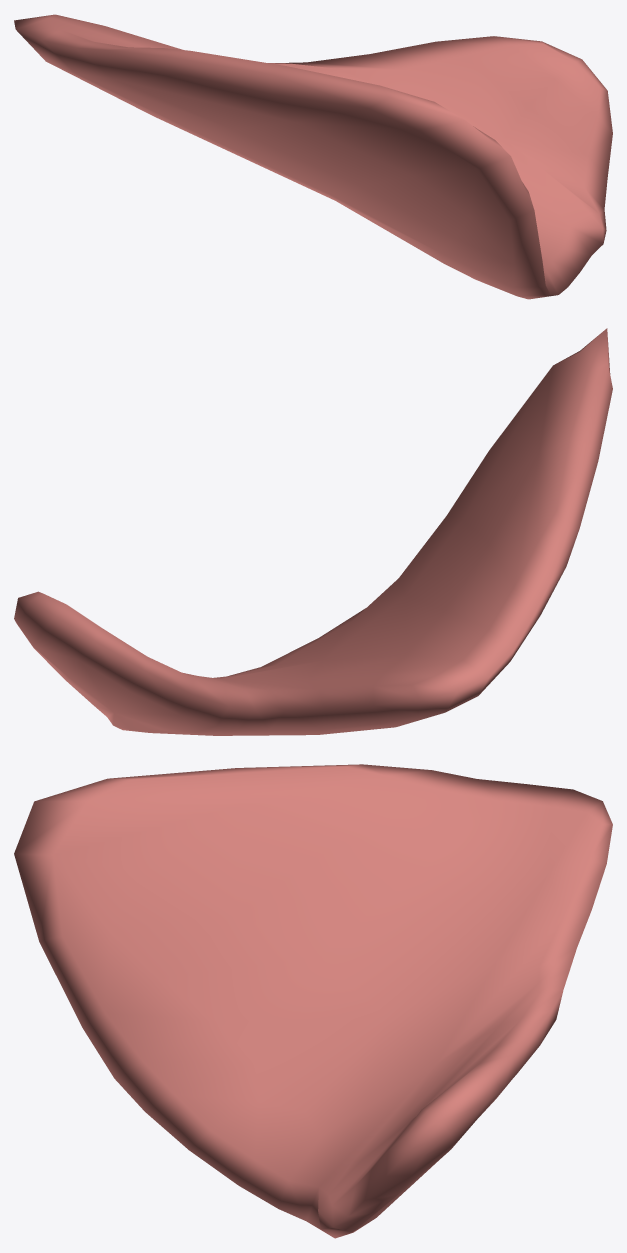
3 renders of one model, top to bottom at view 1: azimuth 30°, elevation 25°; view 2: azimuth 150°, elevation 25°; view 3: azimuth 270°, elevation 25°, orthographic. The views are drawn at different scales.
Visible parts, largest first — view 1: ZA_cd20c5e5549b3f8e; view 2: ZA_cd20c5e5549b3f8e; view 3: ZA_cd20c5e5549b3f8e.
Part boxes in pixels (left/top/right/bottom): ZA_cd20c5e5549b3f8e: left=14, top=14, right=612, bottom=299; ZA_cd20c5e5549b3f8e: left=14, top=328, right=612, bottom=735; ZA_cd20c5e5549b3f8e: left=14, top=764, right=612, bottom=1238.
Bounding box in the file's own units: 0.00534 × 0.00321 × 0.00563.
